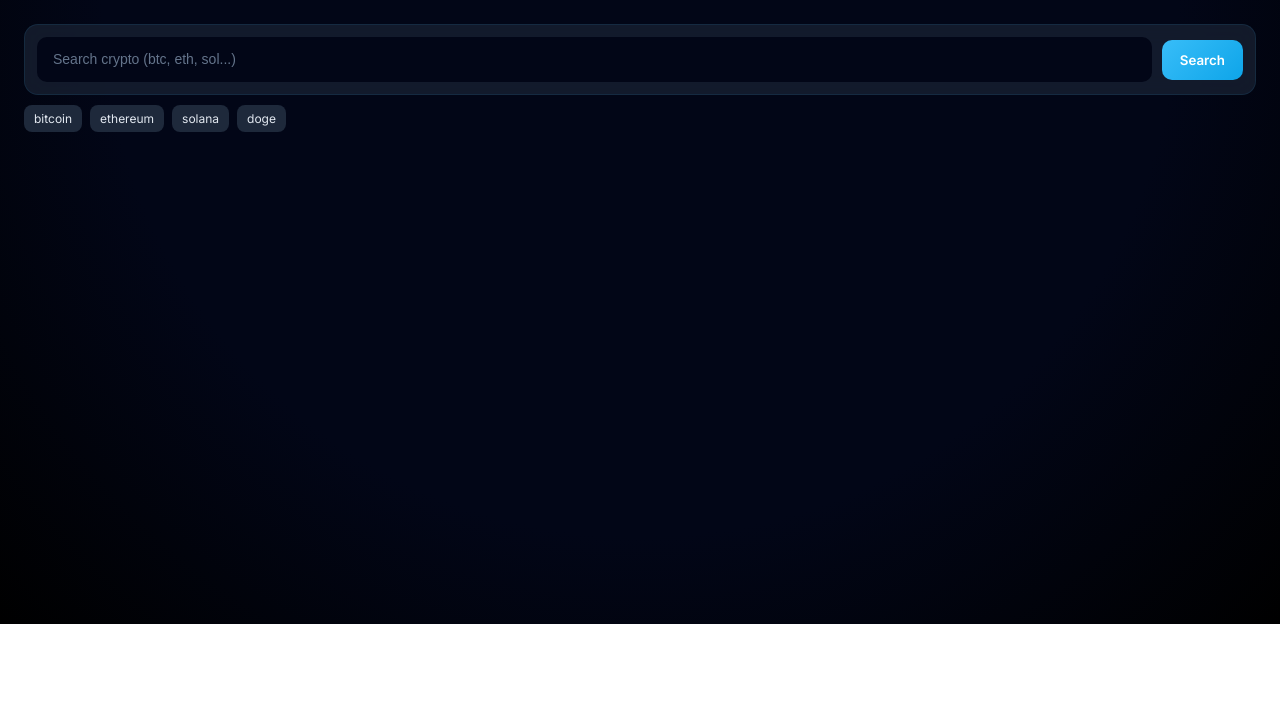
Test case: Dashboard › fetches and displays coin data
# 🔥 simulate user
In the field with placeholder "Search crypto (btc, eth, sol...)": (594, 60) [37, 37, 1152, 82], type "bitcoin"
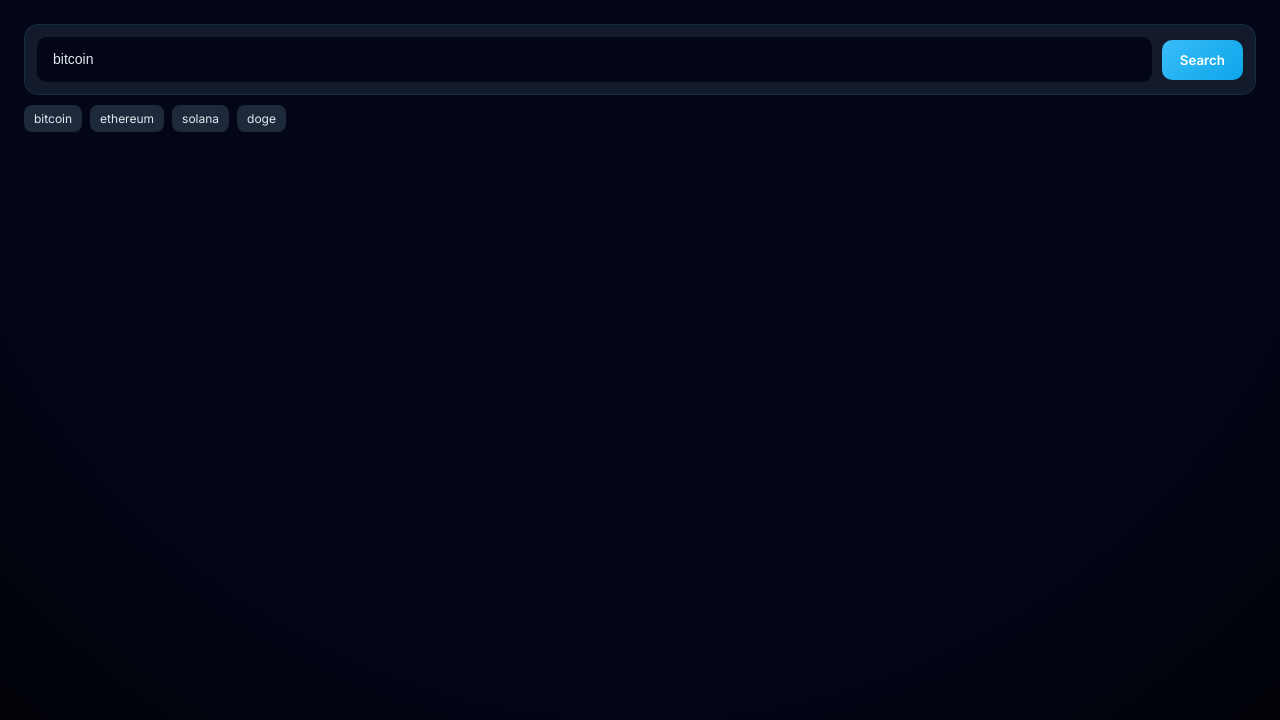
Click the button "Search": (1202, 60) [1162, 40, 1243, 80]
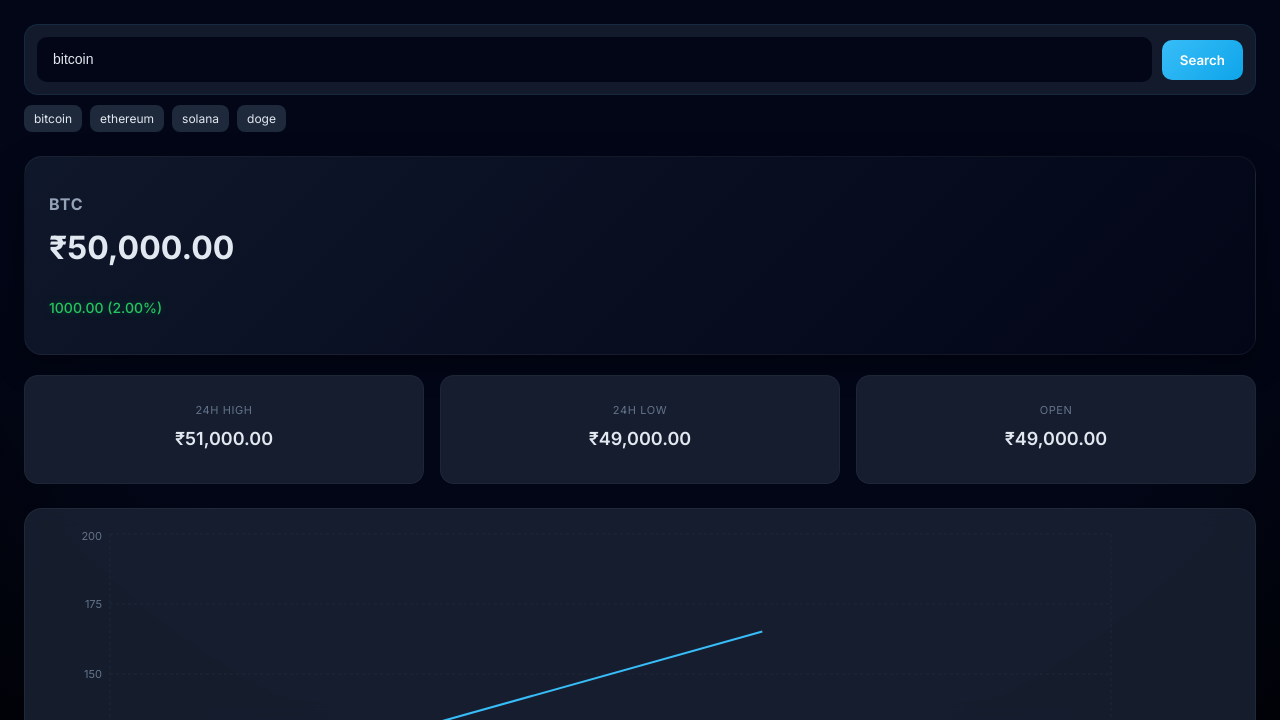
Check: the heading "BTC" is shown, box [49, 194, 84, 214]
